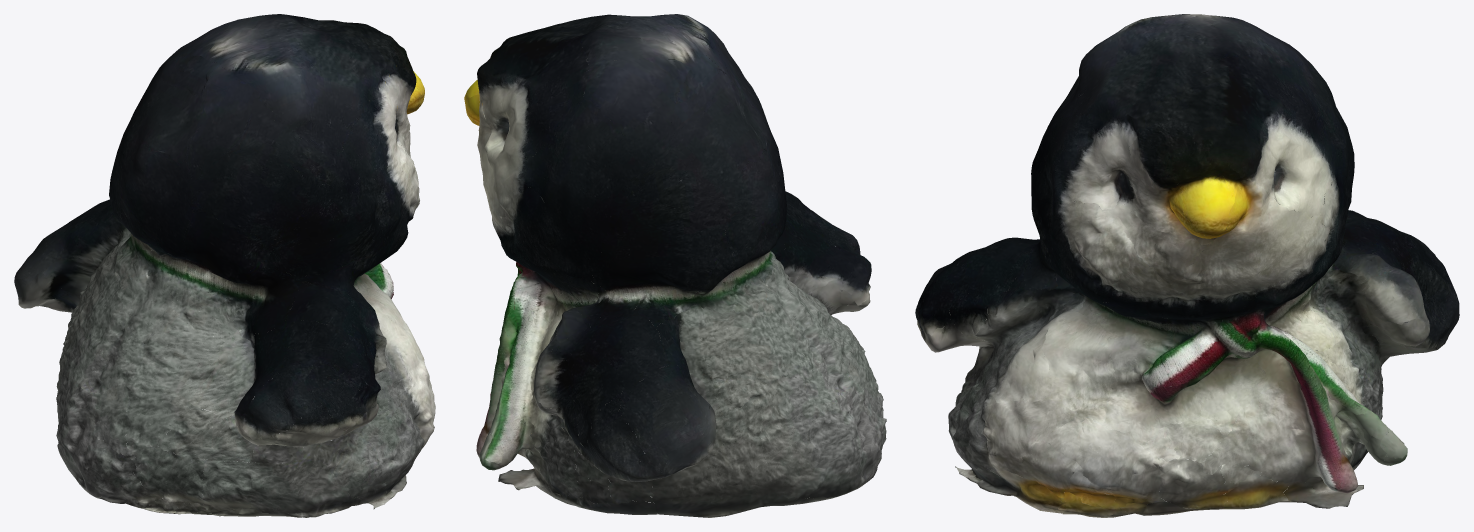
The model's file is pinguiBake.glb.
3 renders of one model, left to right at view 1: azimuth 30°, elevation 25°; view 2: azimuth 150°, elevation 25°; view 3: azimuth 270°, elevation 25°, orthographic. The views are drawn at different scales.
Parts seen in each view (by area): view 1: Mesh_0; view 2: Mesh_0; view 3: Mesh_0.
Boxes of the visible parts, <box> form: Mesh_0: <box>14,14,435,517</box>; Mesh_0: <box>464,14,886,517</box>; Mesh_0: <box>915,14,1459,517</box>.
Bounding box in the file's own units: 2.49 × 2.65 × 2.87.
Materials: 1 (1 with a texture image).
